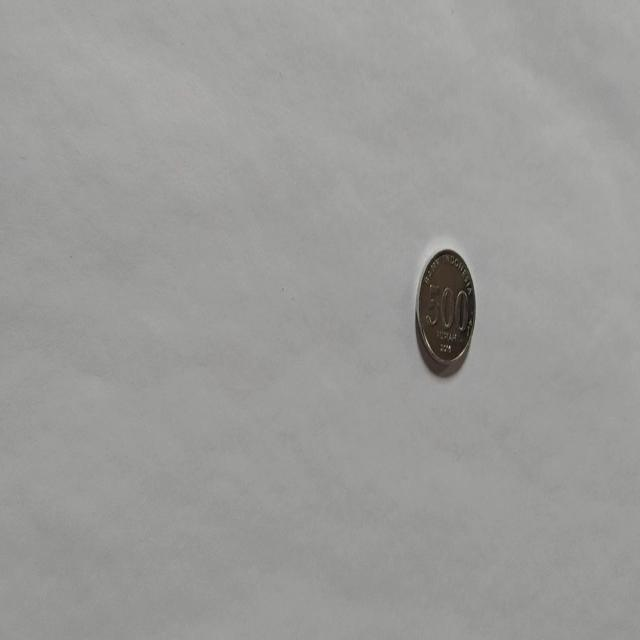lima ratus rupiah: (414, 246, 476, 376)
